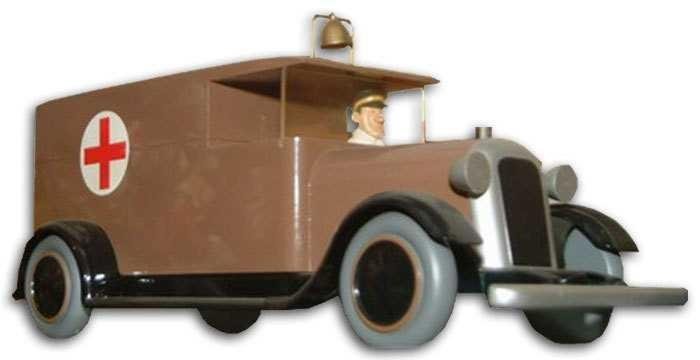car: (10, 12, 688, 350)
